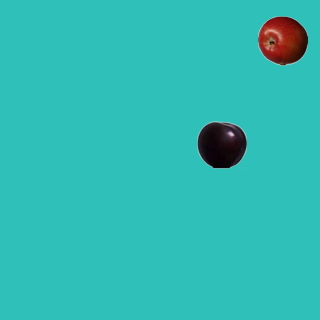Apple Braeburn: (257, 15, 307, 65)
Cherry Wax Black: (196, 119, 246, 169)
